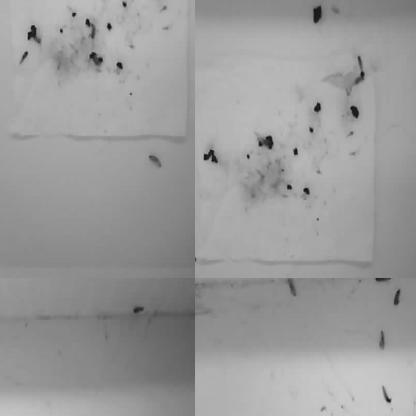PtecticusTenebrifer: (147, 152, 163, 170), (380, 384, 392, 404), (287, 278, 298, 298), (18, 49, 30, 66), (356, 54, 366, 74), (394, 288, 401, 308), (380, 330, 386, 352), (31, 36, 44, 46), (195, 123, 202, 140), (168, 0, 187, 6), (132, 306, 146, 314), (91, 23, 96, 43), (0, 320, 8, 332), (374, 278, 392, 283), (195, 246, 200, 262), (0, 46, 3, 67), (0, 405, 5, 416), (150, 0, 160, 5)
